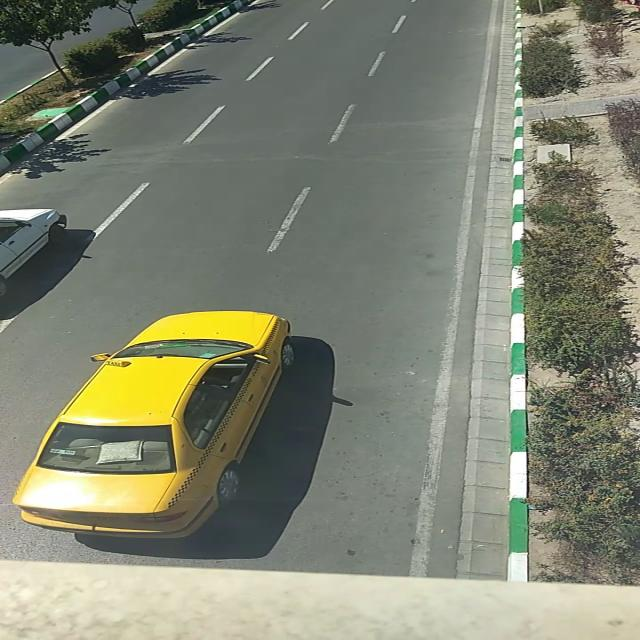car: (12, 311, 294, 537), (0, 208, 65, 292)
